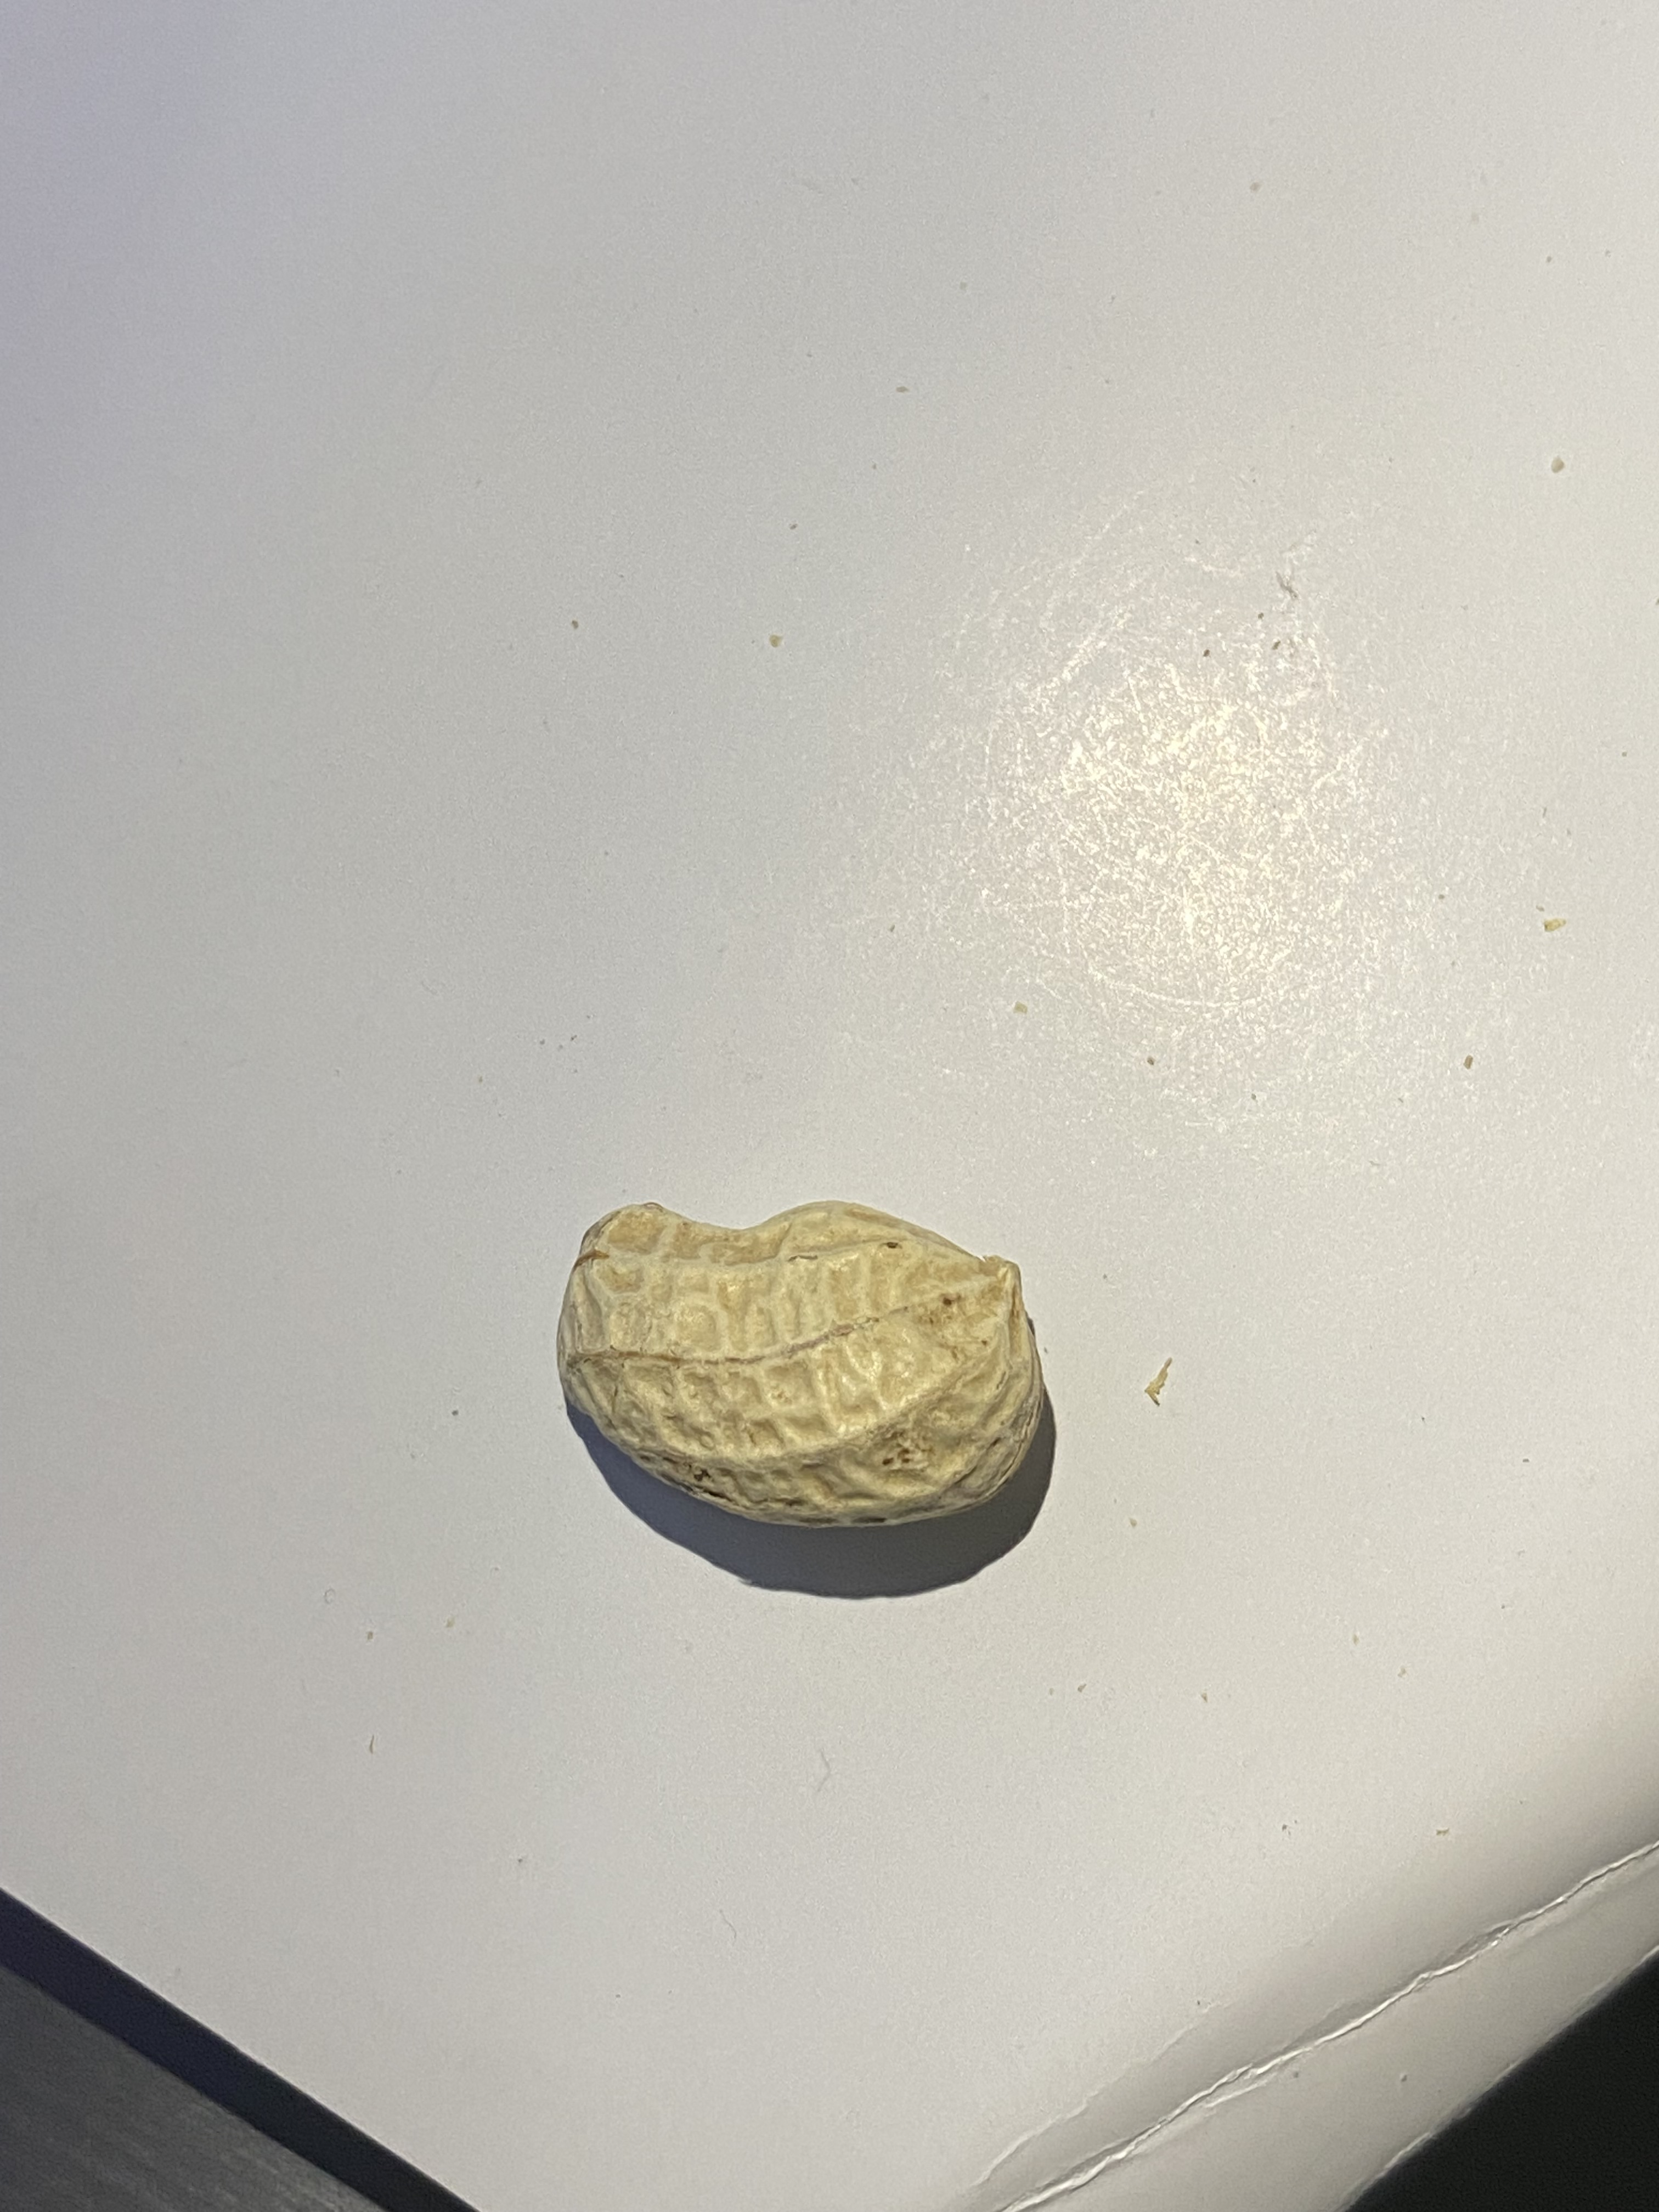kacang1: (538, 1198, 1051, 1538)
